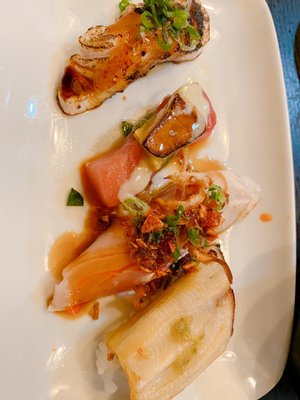sandwich: (57, 0, 211, 116)
